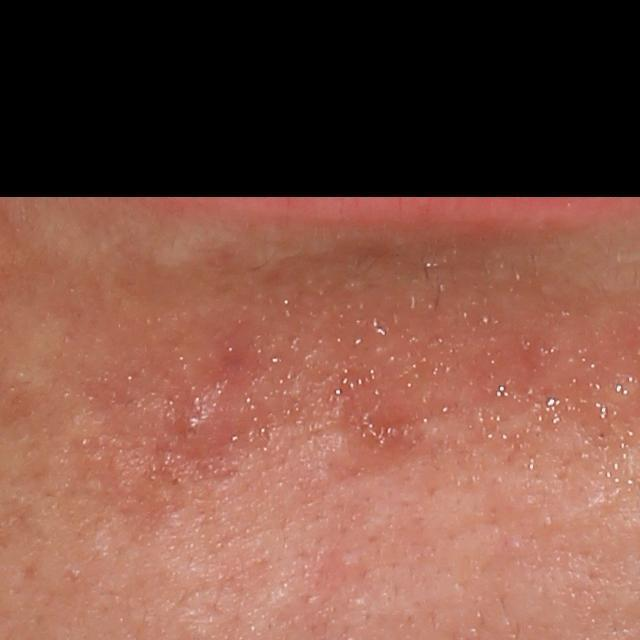hypertrophic_scar: (144, 221, 239, 270)
papule: (164, 390, 236, 461)
